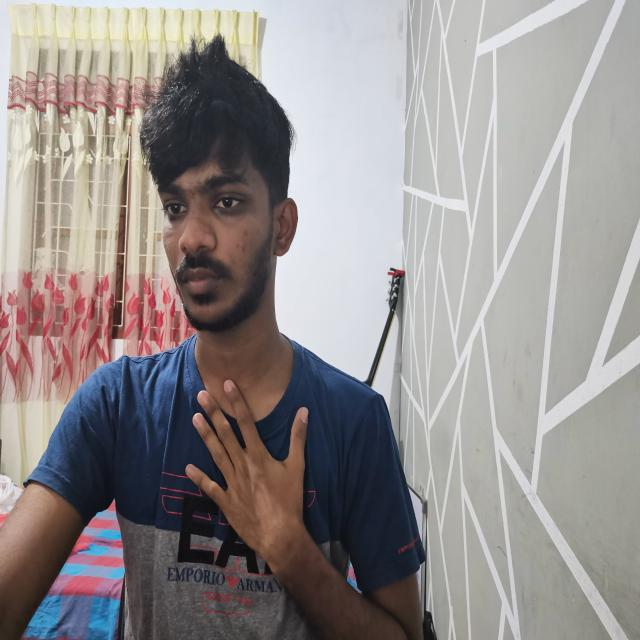Please: (187, 374, 430, 640)
